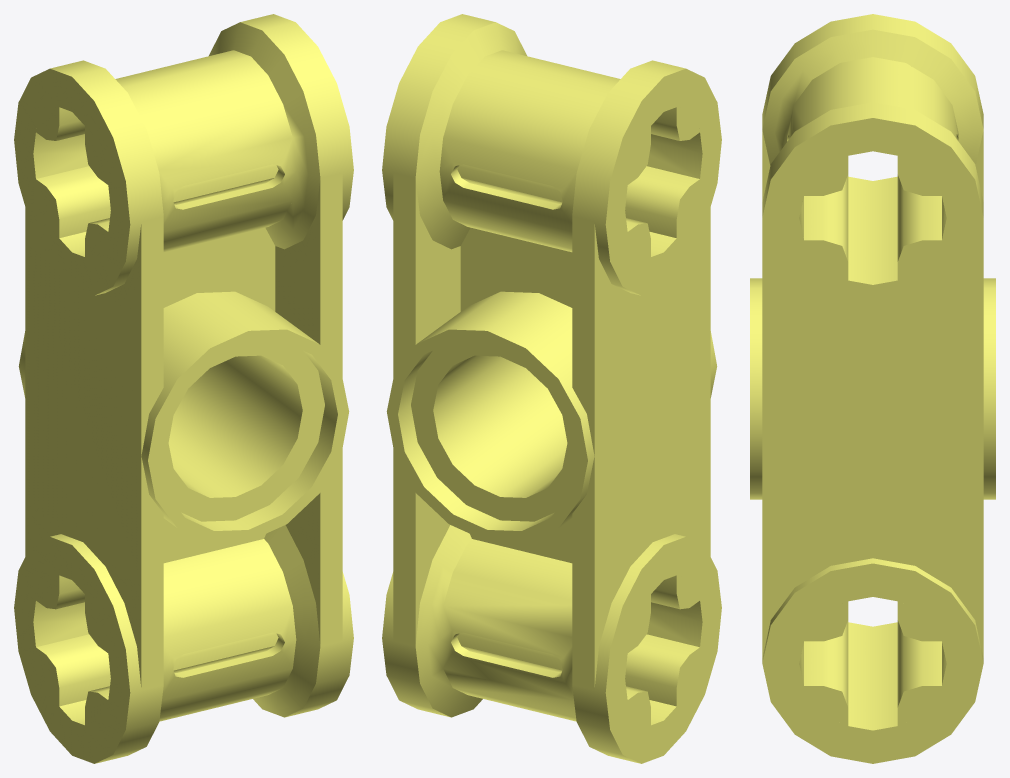
The picture shows the model from 3 angles, left to right: view 1: azimuth 30°, elevation 25°; view 2: azimuth 150°, elevation 25°; view 3: azimuth 270°, elevation 25°; orthographic projection. The views are drawn at different scales.
Visible parts, largest first — view 1: 32184.dat; view 2: 32184.dat; view 3: 32184.dat.
Boxes of the visible parts, <box> form: 32184.dat: <box>14,14,353,763</box>; 32184.dat: <box>382,14,721,763</box>; 32184.dat: <box>750,14,995,763</box>.
Size of the model in its own units: 0.008 by 0.0232 by 0.008.
